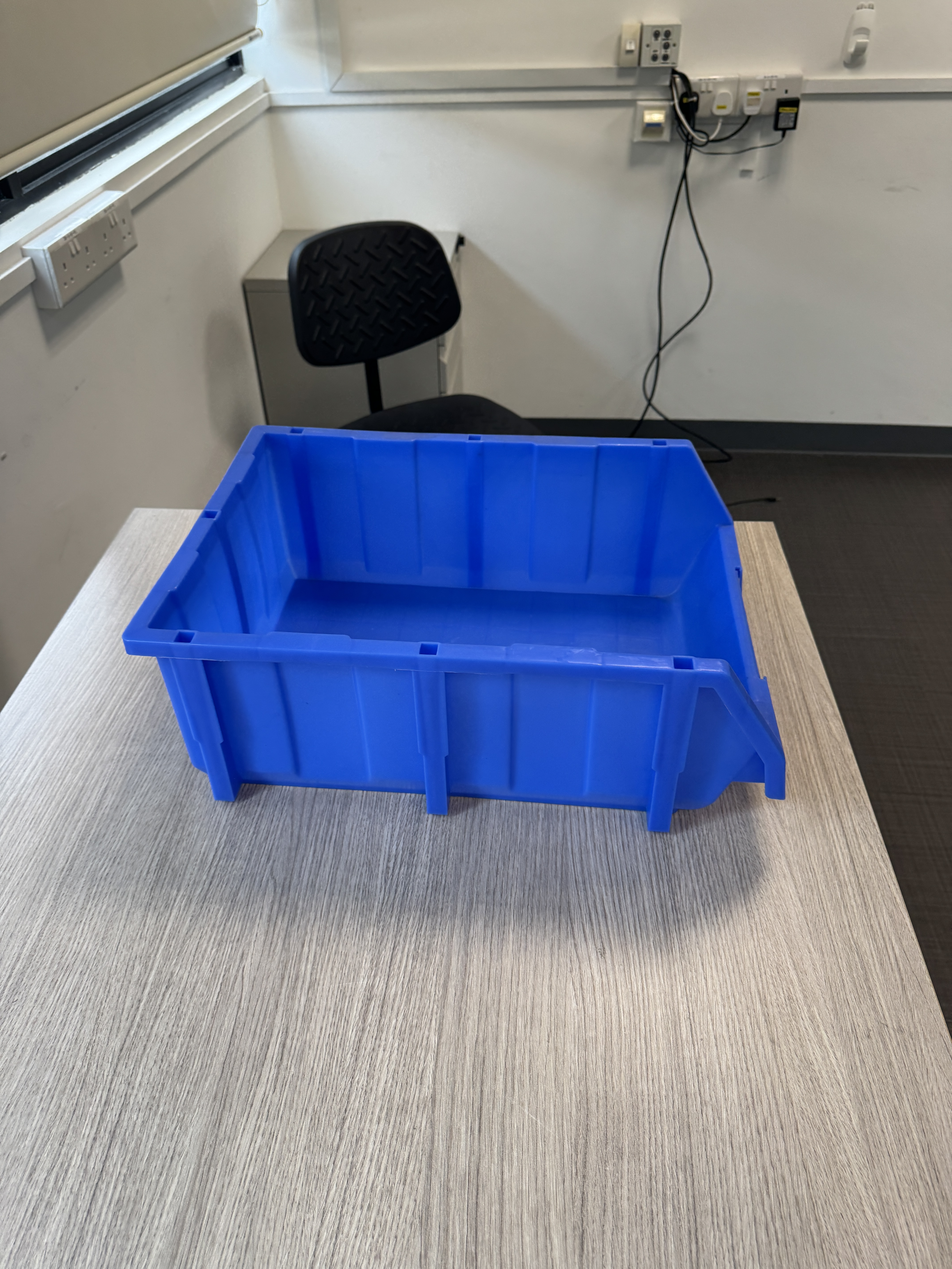Bin Boundary: (143, 369, 804, 726)
